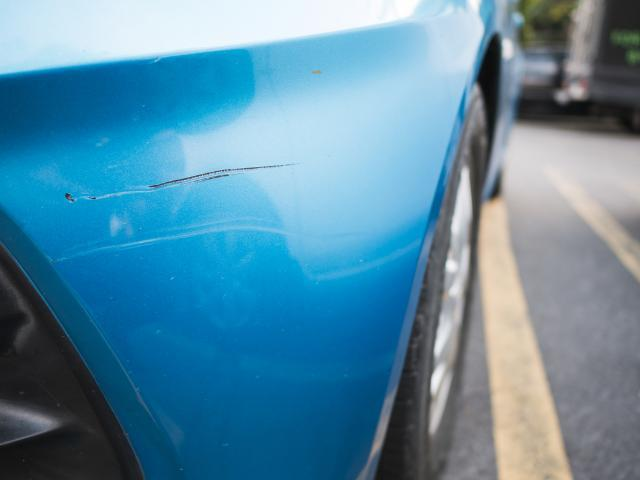scratch: (51, 158, 314, 265)
